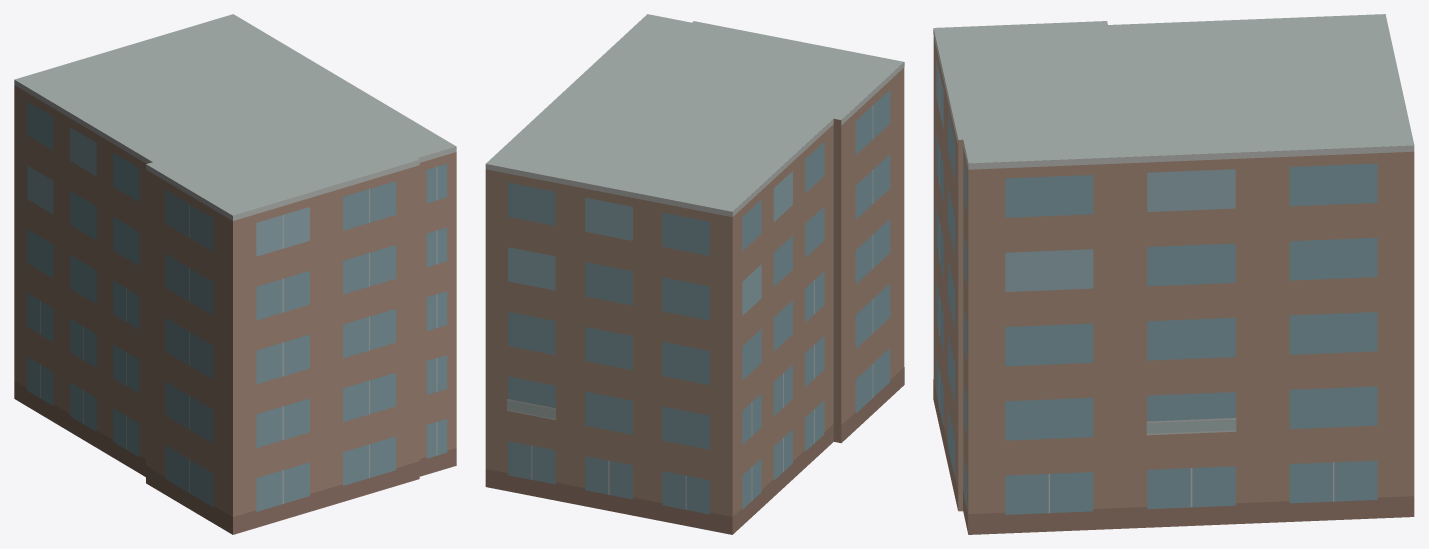
The model's file is survey-upis-33024844.glb.
The picture shows the model from 3 angles, left to right: view 1: azimuth 30°, elevation 25°; view 2: azimuth 150°, elevation 25°; view 3: azimuth 270°, elevation 25°; orthographic projection. The views are drawn at different scales.
Parts seen in each view (by area): view 1: survey-upis-33024844.tmp; view 2: survey-upis-33024844.tmp; view 3: survey-upis-33024844.tmp.
Part boxes in pixels (x1,y1,x2,y2): survey-upis-33024844.tmp: (14,14,456,534); survey-upis-33024844.tmp: (485,14,904,534); survey-upis-33024844.tmp: (933,14,1414,534).
Size of the model in its own units: 12.61 by 14.6 by 17.15.
